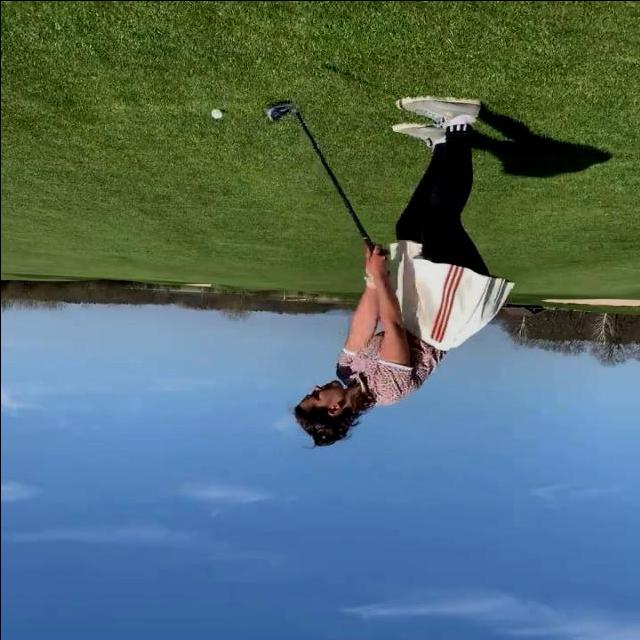golf ball: (209, 107, 223, 119)
golf club-handle: (262, 98, 390, 277)
golf club-head: (263, 102, 292, 120)
